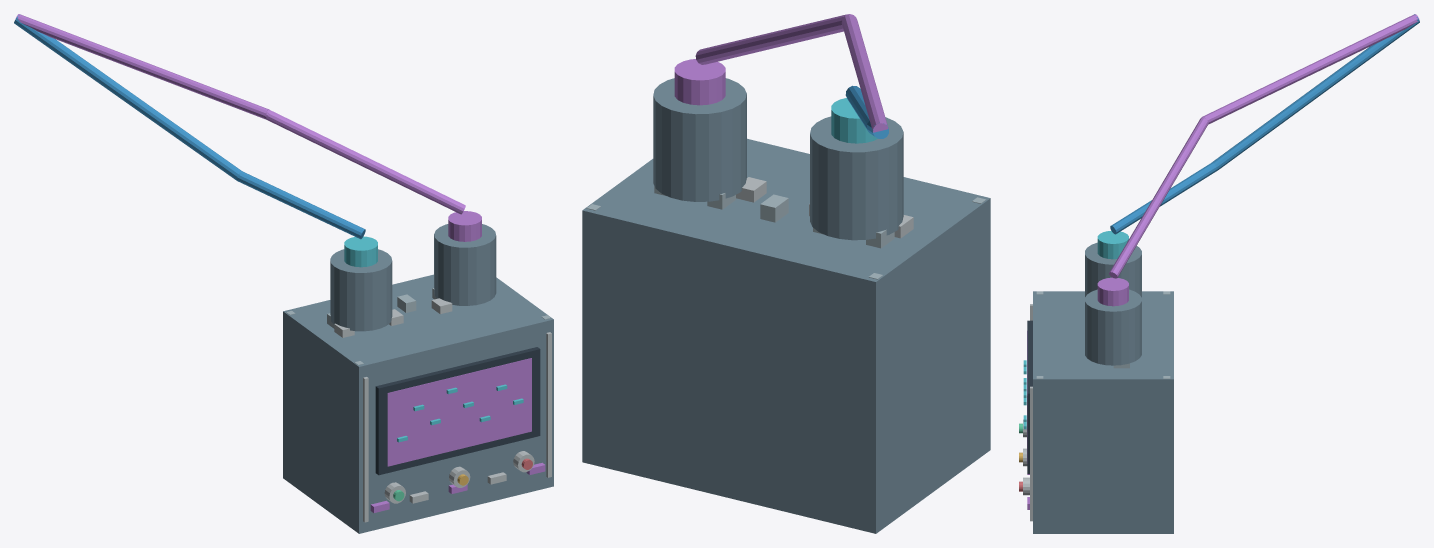
File: 36_L72_InSituOpticalEllipsometer.glb
The picture shows the model from 3 angles, left to right: view 1: azimuth 30°, elevation 25°; view 2: azimuth 150°, elevation 25°; view 3: azimuth 270°, elevation 25°; orthographic projection. The views are drawn at different scales.
Visible parts, largest first — view 1: InSituOpticalEllipsometer_Part_000, InSituOpticalEllipsometer_Part_008, InSituOpticalEllipsometer_Part_007, InSituOpticalEllipsometer_Part_038, InSituOpticalEllipsometer_Part_036, InSituOpticalEllipsometer_Part_041, InSituOpticalEllipsometer_Part_044, InSituOpticalEllipsometer_Part_043, InSituOpticalEllipsometer_Part_040, InSituOpticalEllipsometer_Part_037, InSituOpticalEllipsometer_Part_039, InSituOpticalEllipsometer_Part_005 (+1 smaller); view 2: InSituOpticalEllipsometer_Part_000, InSituOpticalEllipsometer_Part_038, InSituOpticalEllipsometer_Part_036, InSituOpticalEllipsometer_Part_043, InSituOpticalEllipsometer_Part_039, InSituOpticalEllipsometer_Part_044, InSituOpticalEllipsometer_Part_037, InSituOpticalEllipsometer_Part_028, InSituOpticalEllipsometer_Part_025, InSituOpticalEllipsometer_Part_040; view 3: InSituOpticalEllipsometer_Part_000, InSituOpticalEllipsometer_Part_038, InSituOpticalEllipsometer_Part_041, InSituOpticalEllipsometer_Part_044, InSituOpticalEllipsometer_Part_043, InSituOpticalEllipsometer_Part_036, InSituOpticalEllipsometer_Part_040, InSituOpticalEllipsometer_Part_039, InSituOpticalEllipsometer_Part_037, InSituOpticalEllipsometer_Part_007.
Part boxes in pixels (x1,y1,x2,y2): InSituOpticalEllipsometer_Part_000: (283,274,553,533); InSituOpticalEllipsometer_Part_008: (387,358,531,466); InSituOpticalEllipsometer_Part_007: (375,347,540,475); InSituOpticalEllipsometer_Part_038: (434,224,496,305); InSituOpticalEllipsometer_Part_036: (330,249,392,331); InSituOpticalEllipsometer_Part_041: (14,15,242,180); InSituOpticalEllipsometer_Part_044: (15,14,268,118); InSituOpticalEllipsometer_Part_043: (265,110,465,214); InSituOpticalEllipsometer_Part_040: (237,171,365,239); InSituOpticalEllipsometer_Part_037: (344,236,377,267); InSituOpticalEllipsometer_Part_039: (448,211,481,241); InSituOpticalEllipsometer_Part_005: (363,377,368,522); InSituOpticalEllipsometer_Part_000: (582,138,990,533); InSituOpticalEllipsometer_Part_038: (653,78,746,201); InSituOpticalEllipsometer_Part_036: (810,116,903,240); InSituOpticalEllipsometer_Part_043: (695,14,850,64); InSituOpticalEllipsometer_Part_039: (674,59,725,105); InSituOpticalEllipsometer_Part_044: (841,14,888,132); InSituOpticalEllipsometer_Part_037: (831,98,877,143); InSituOpticalEllipsometer_Part_028: (760,194,788,222); InSituOpticalEllipsometer_Part_025: (736,177,766,202); InSituOpticalEllipsometer_Part_040: (845,85,869,131); InSituOpticalEllipsometer_Part_000: (1033,291,1173,533); InSituOpticalEllipsometer_Part_038: (1085,289,1141,365); InSituOpticalEllipsometer_Part_041: (1212,14,1419,170); InSituOpticalEllipsometer_Part_044: (1203,14,1419,124); InSituOpticalEllipsometer_Part_043: (1109,118,1208,278); InSituOpticalEllipsometer_Part_036: (1085,242,1141,297); InSituOpticalEllipsometer_Part_040: (1110,162,1217,234); InSituOpticalEllipsometer_Part_039: (1097,277,1128,306); InSituOpticalEllipsometer_Part_037: (1097,230,1128,259); InSituOpticalEllipsometer_Part_007: (1027,320,1032,473).
Bounding box in the file's own units: 1.8 × 2.06 × 2.02.
